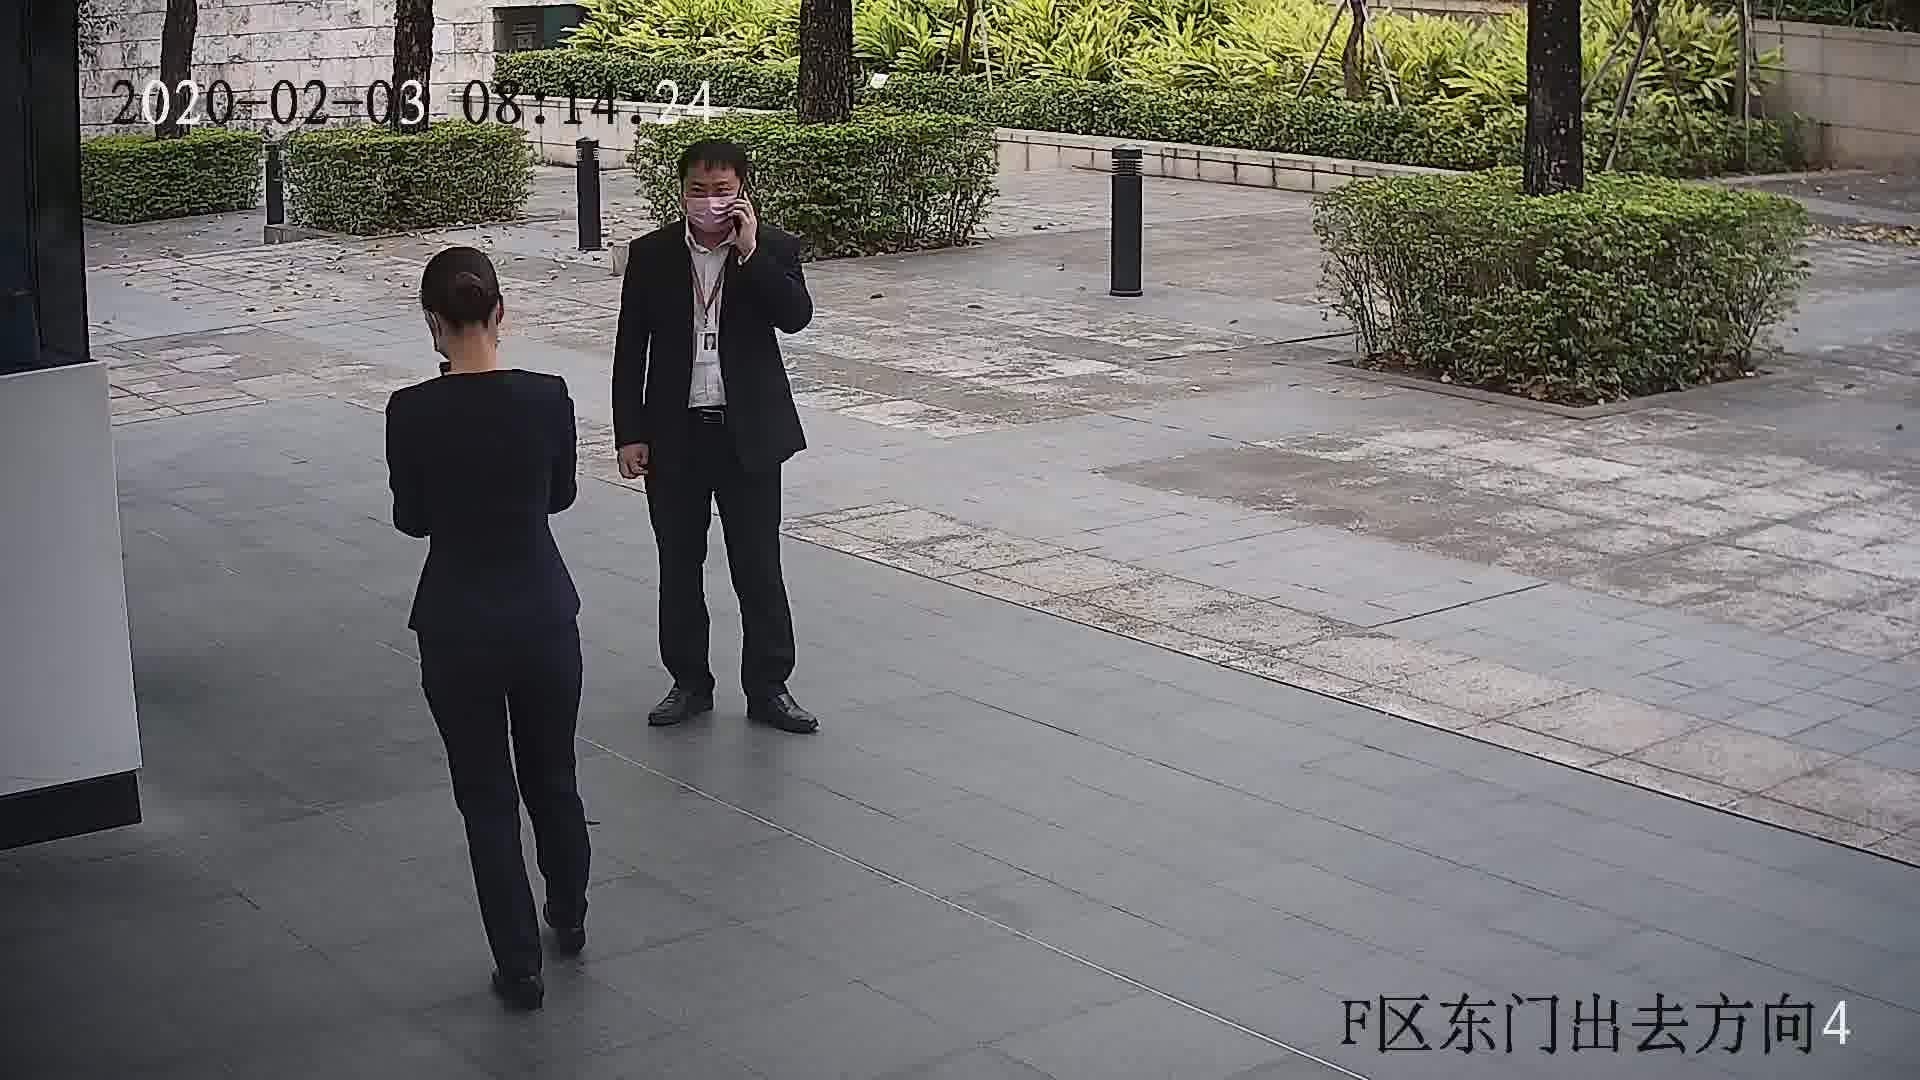face: (679, 169, 746, 235)
mask: (684, 187, 737, 233)
person: (388, 243, 573, 441), (626, 139, 802, 284)
